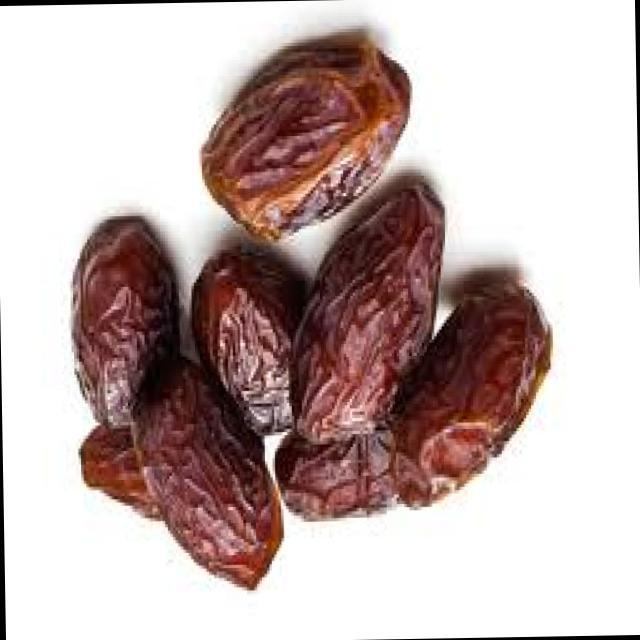Dates: (169, 204, 582, 592), (171, 23, 444, 244)
